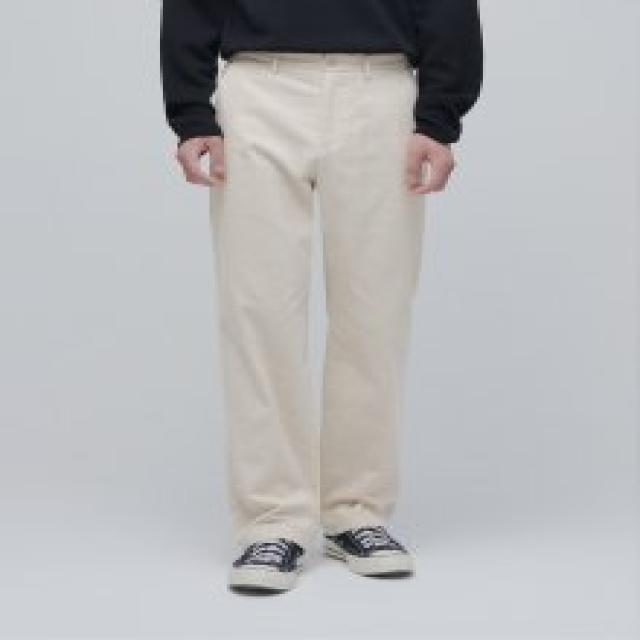long-pants: (212, 48, 428, 543)
